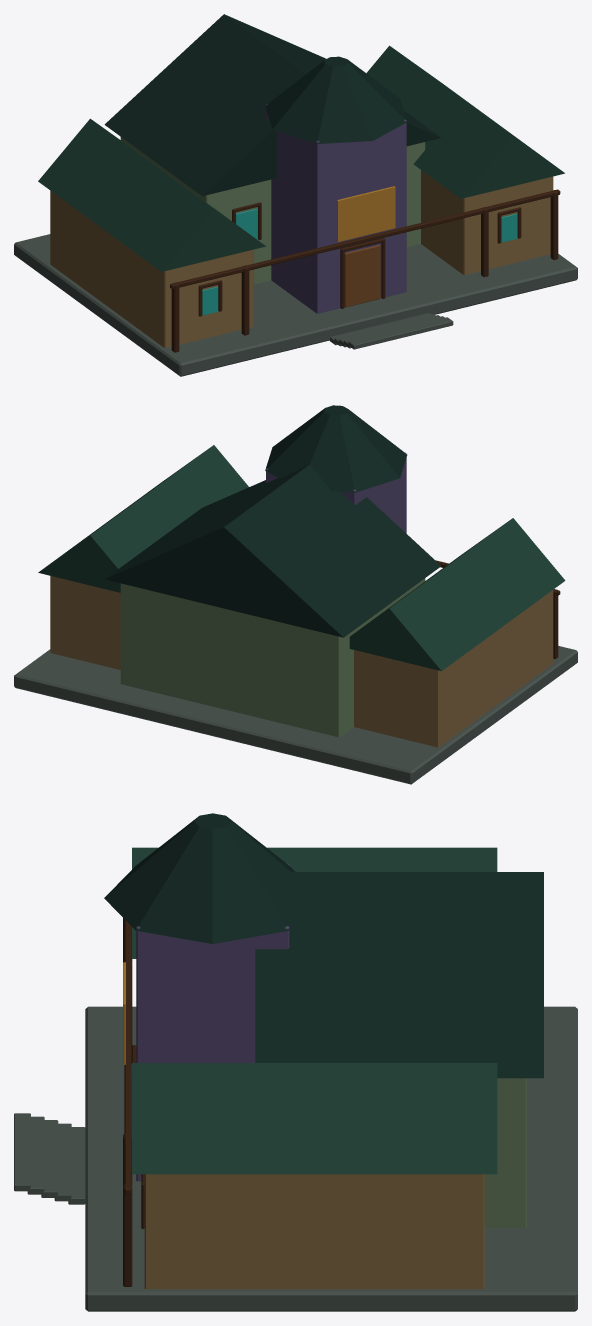
Rendered from LumenCivicHallV2.glb.
The picture shows the model from 3 angles, top to bottom: view 1: azimuth 30°, elevation 25°; view 2: azimuth 150°, elevation 25°; view 3: azimuth 270°, elevation 25°; orthographic projection. The views are drawn at different scales.
Visible parts, largest first — view 1: LumenCivicHallV2; view 2: LumenCivicHallV2; view 3: LumenCivicHallV2.
Boxes of the visible parts, x1=… form: LumenCivicHallV2: x1=14, y1=14, x2=577, y2=376; LumenCivicHallV2: x1=14, y1=405, x2=577, y2=784; LumenCivicHallV2: x1=14, y1=813, x2=577, y2=1311.
Bounding box in the file's own units: 40.5 × 22.6 × 33.2.
1 material, 1 textured.
